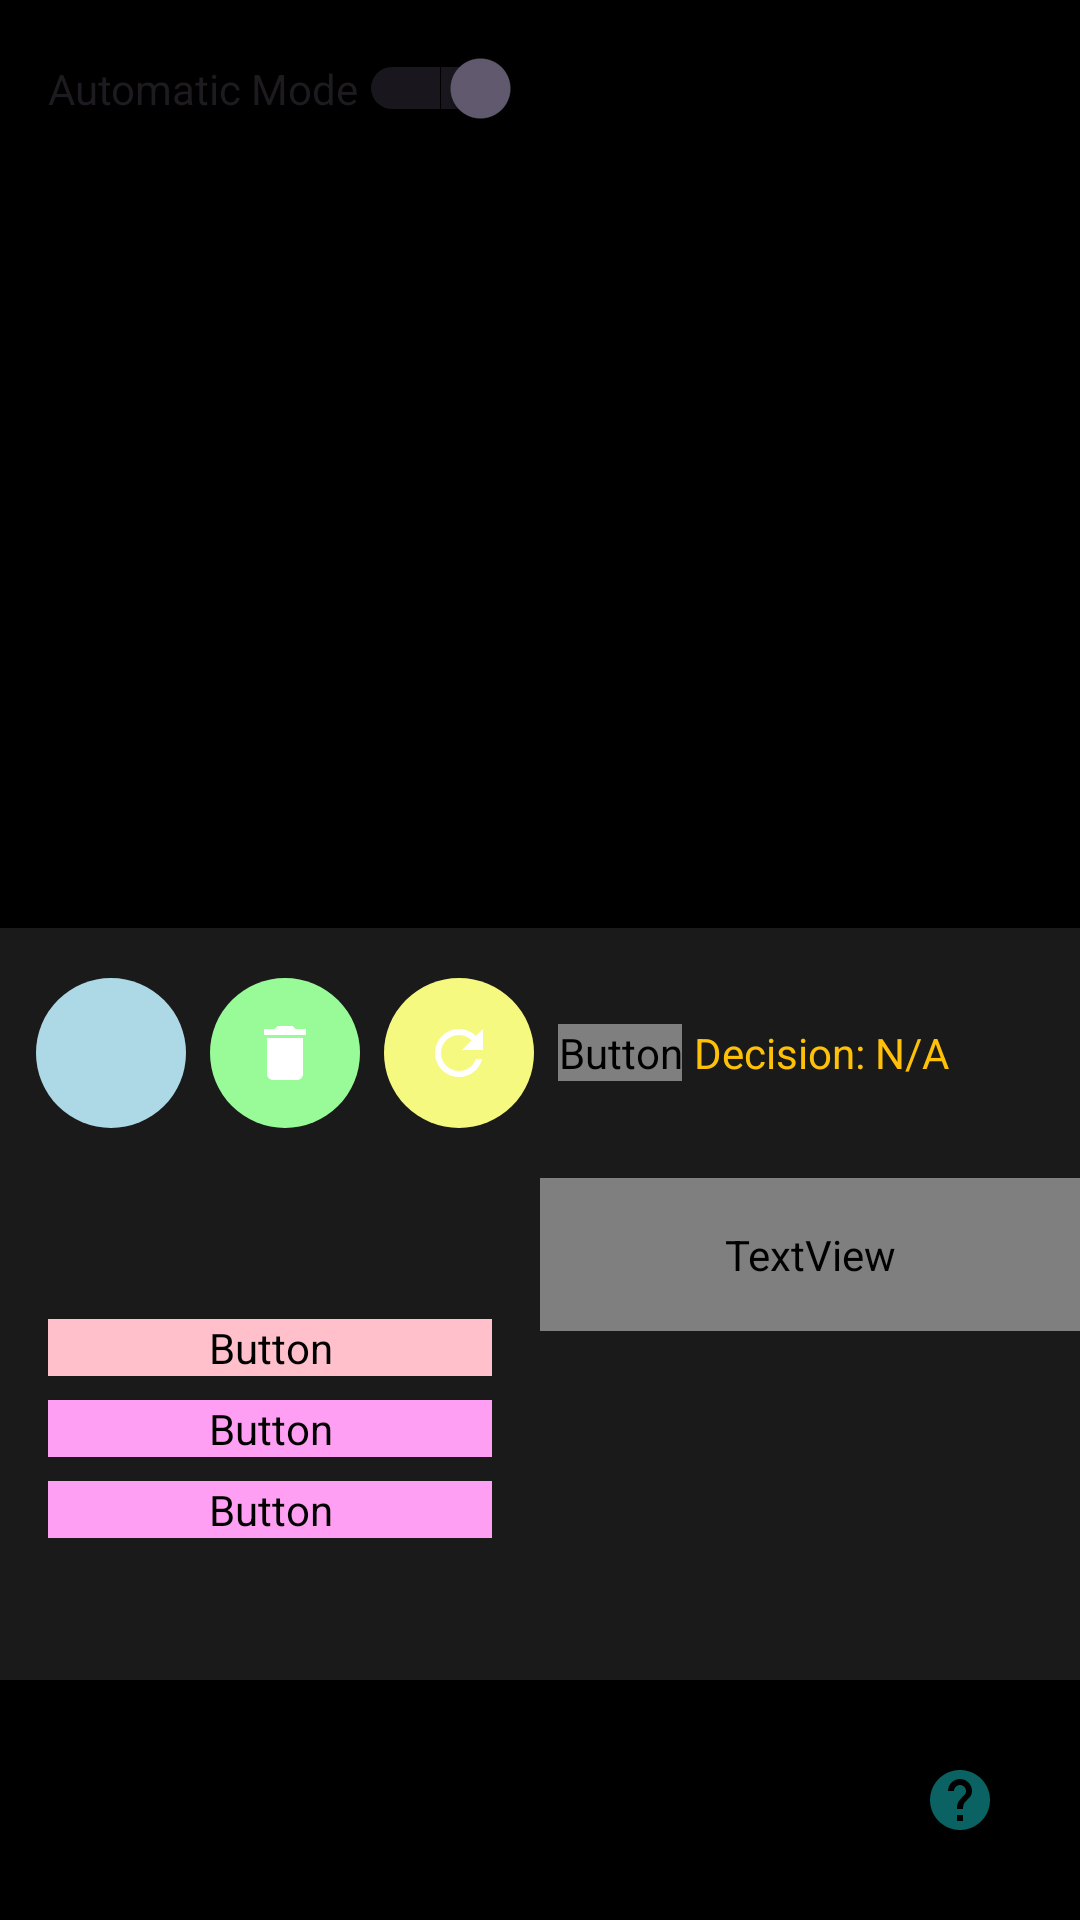

Named icons in this screenshot (1080 x 1920) and their centers, (x=x, y=y):
Delete: (x=285, y=1053)
Help: (x=960, y=1800)
Refresh: (x=459, y=1053)
